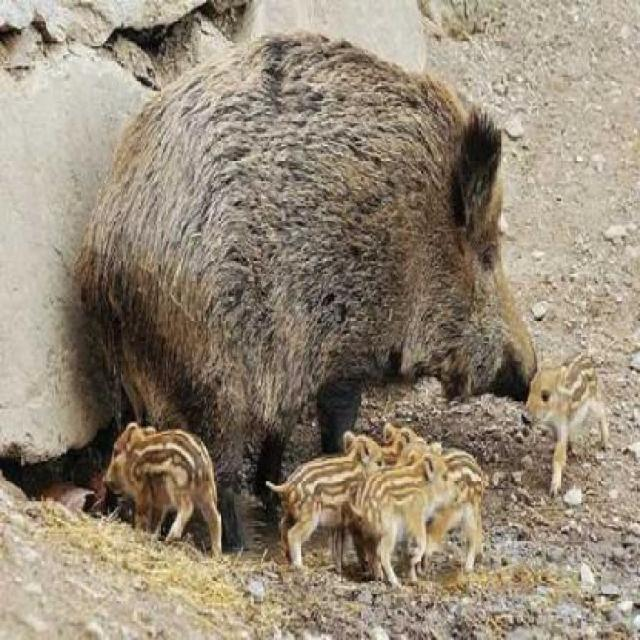pig: (70, 44, 558, 504), (77, 409, 224, 584), (511, 332, 619, 480), (264, 430, 372, 572), (364, 457, 464, 568)
